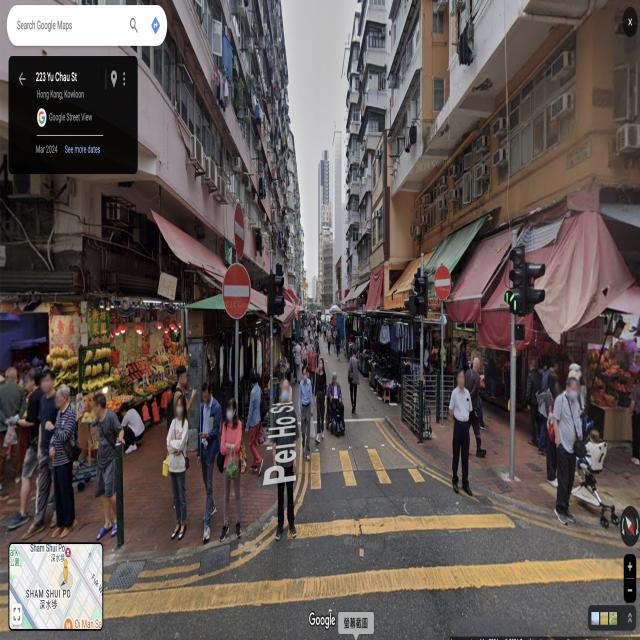Order-Sign: (223, 264, 250, 318), (234, 201, 245, 261), (435, 265, 451, 301)
